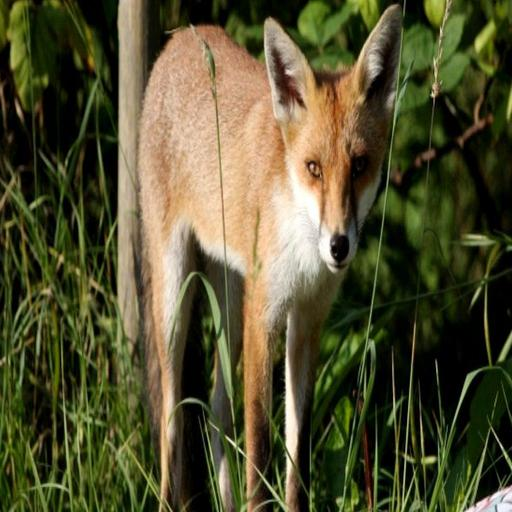Fox: (125, 3, 407, 512)
